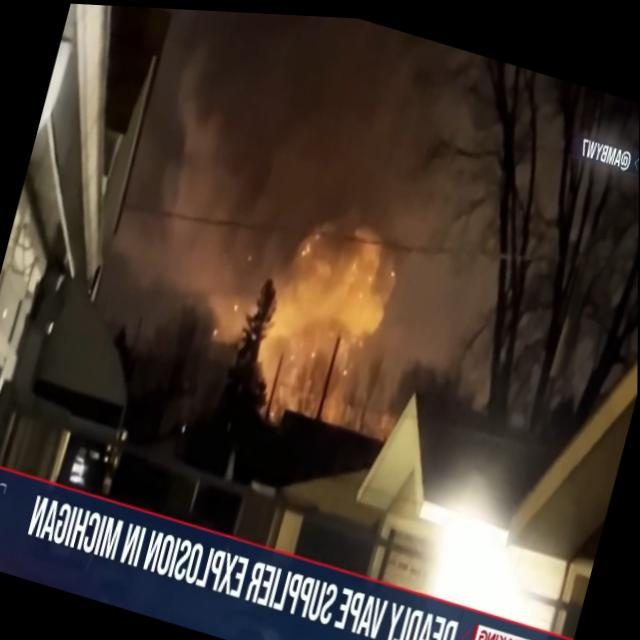Fire: (187, 185, 429, 457)
